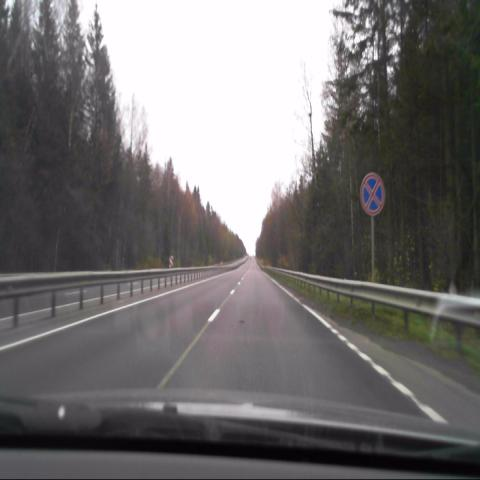3_27: (359, 171, 385, 218)
